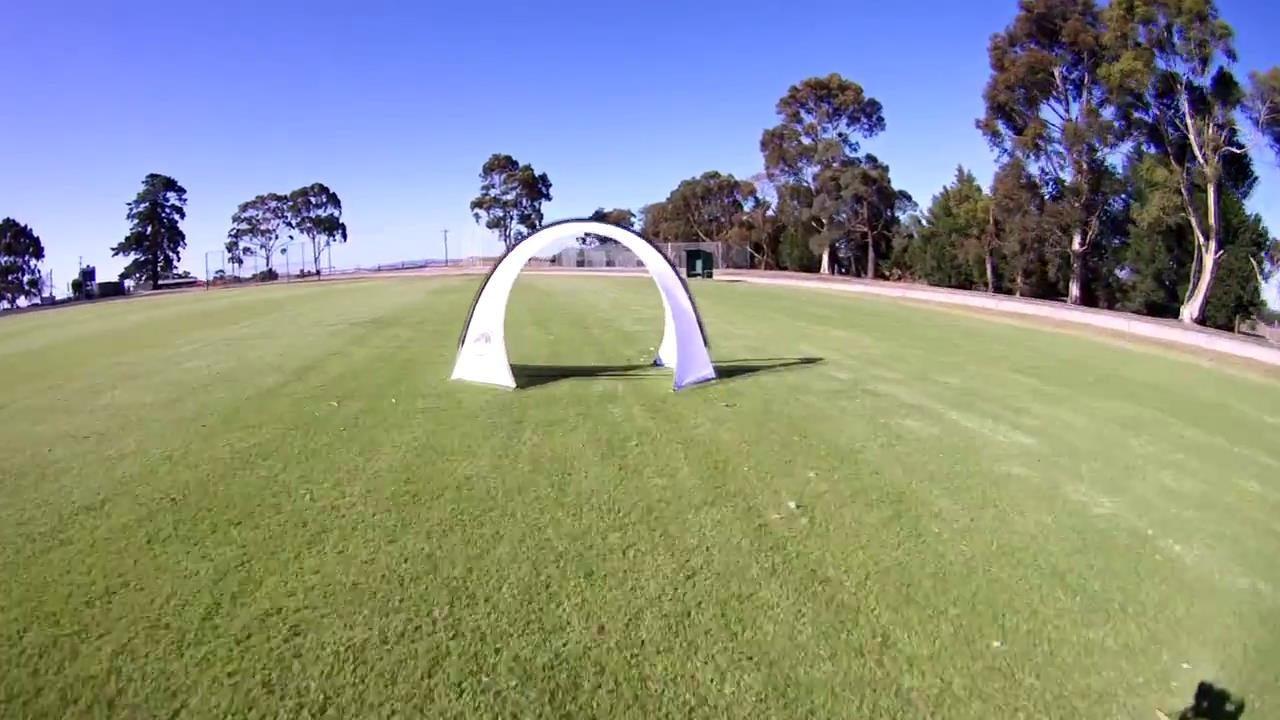gate: (447, 216, 719, 398)
